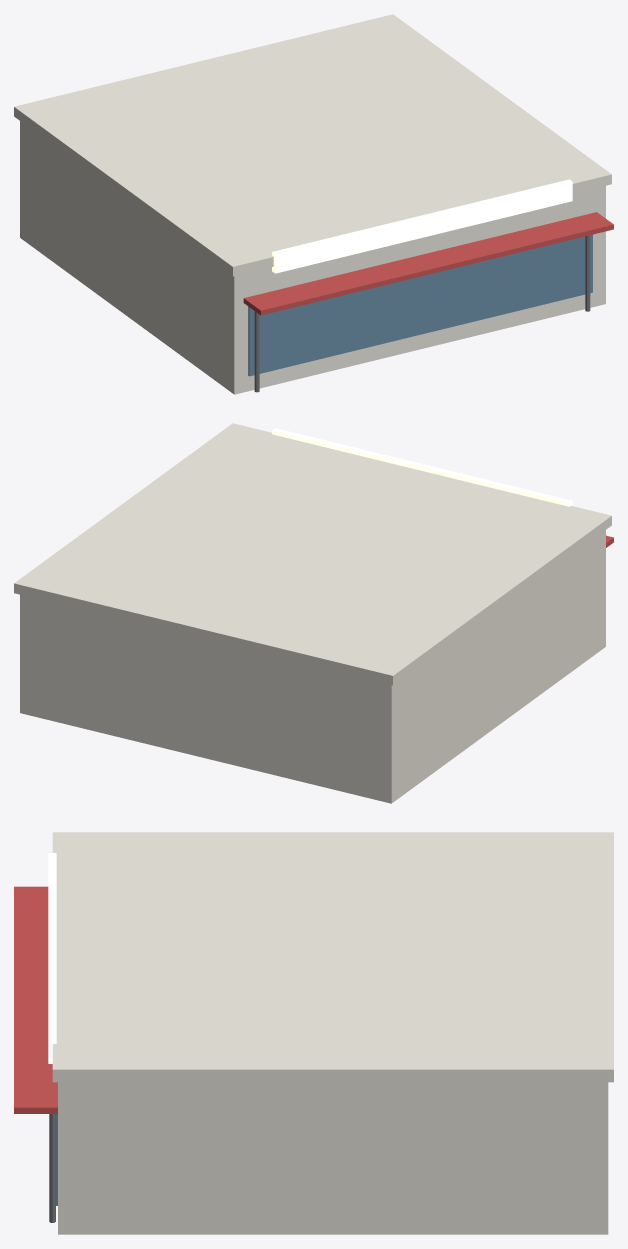
File: shop.glb
The picture shows the model from 3 angles, top to bottom: view 1: azimuth 30°, elevation 25°; view 2: azimuth 150°, elevation 25°; view 3: azimuth 270°, elevation 25°; orthographic projection. The views are drawn at different scales.
Visible parts, largest first — view 1: Cube.004, Cube, Cube.001, Cube.002, Cube.003, Cylinder; view 2: Cube.004, Cube, Cube.003; view 3: Cube.004, Cube, Cube.002, Cube.003, Cylinder.
Boxes of the visible parts, x1,y1,x2,y2 form: Cube.004: [14, 14, 611, 276]; Cube: [20, 121, 605, 394]; Cube.001: [248, 234, 592, 376]; Cube.002: [243, 212, 613, 315]; Cube.003: [272, 179, 572, 273]; Cylinder: [254, 235, 590, 392]; Cube.004: [14, 423, 611, 685]; Cube: [20, 530, 605, 803]; Cube.003: [272, 428, 572, 506]; Cube.004: [52, 832, 613, 1082]; Cube: [58, 1082, 608, 1234]; Cube.002: [14, 886, 57, 1113]; Cube.003: [48, 853, 56, 1063]; Cylinder: [49, 1114, 55, 1222].
Size of the model in its own units: 20.4 by 6.9 by 21.8.
